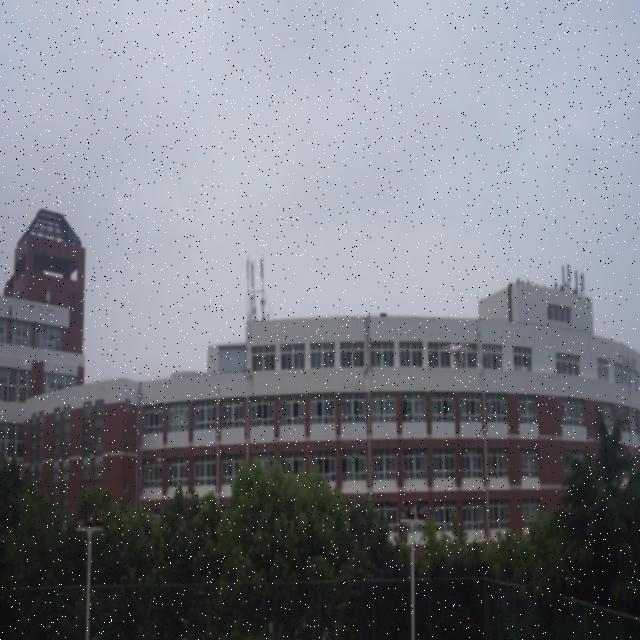UAV: (442, 339, 471, 367)
